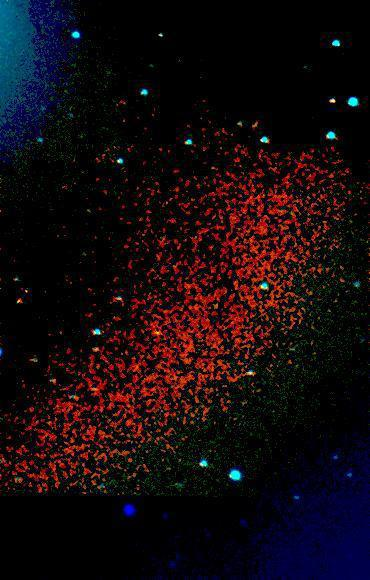star: (5, 285, 35, 315)
